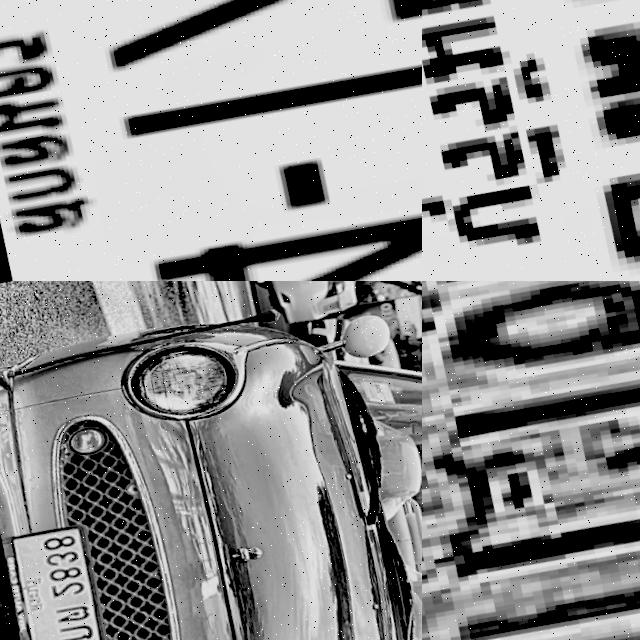license-plate: (0, 0, 422, 281), (422, 281, 640, 640), (422, 0, 640, 281), (0, 513, 117, 640), (322, 291, 343, 305)
